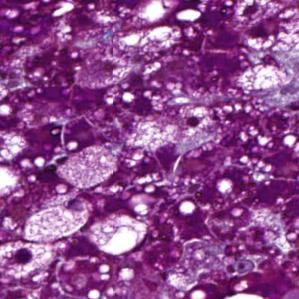ballooning: (21, 196, 93, 244), (79, 210, 152, 257)
